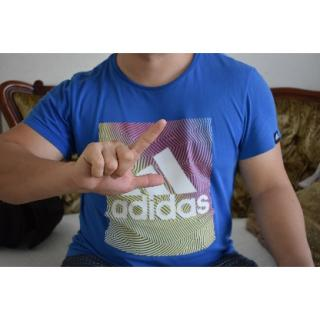LAAM: (72, 115, 177, 203)
